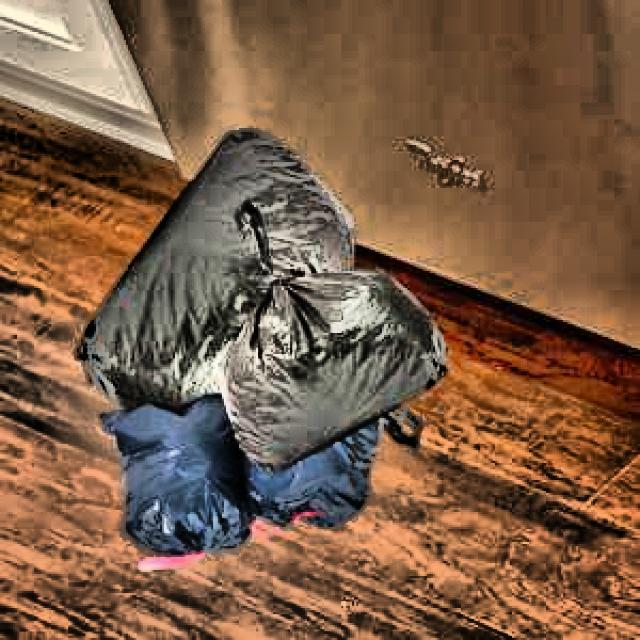Trashbag: (215, 266, 449, 451), (92, 396, 247, 557), (240, 438, 381, 536)
